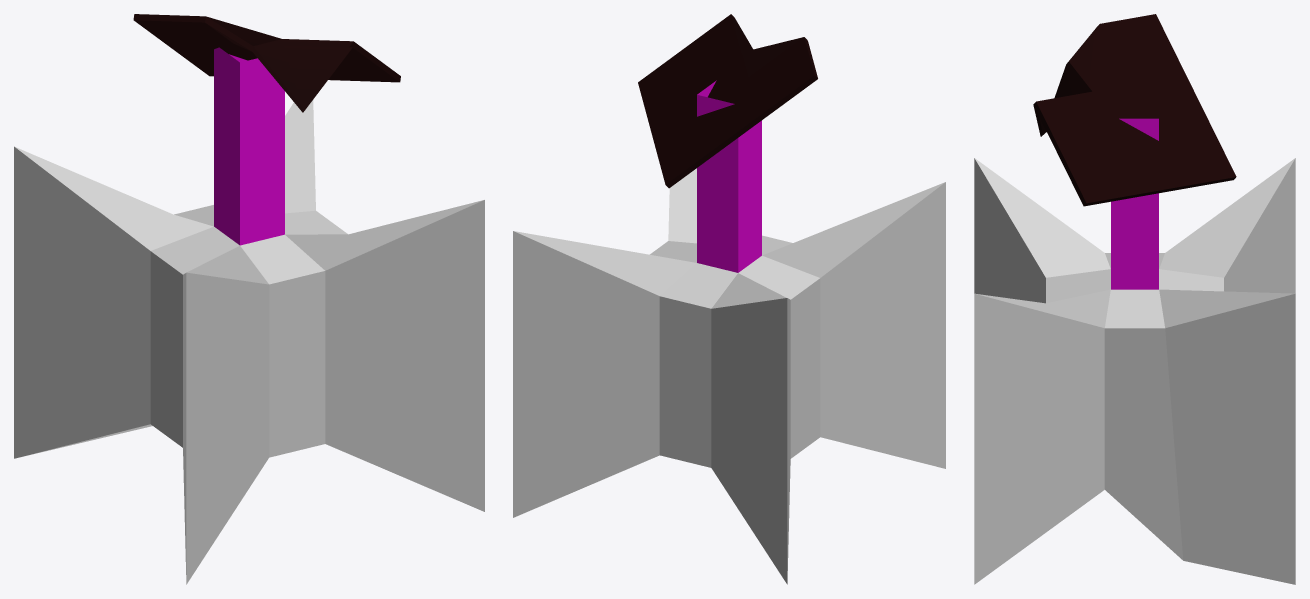
Rendered from dimensional_fruit_red_test_1.glb.
3 renders of one model, left to right at view 1: azimuth 30°, elevation 25°; view 2: azimuth 150°, elevation 25°; view 3: azimuth 270°, elevation 25°, orthographic. The views are drawn at different scales.
Visible parts, largest first — view 1: Cube.003, Cube.002; view 2: Cube.003, Cube.002; view 3: Cube.003, Cube.002.
Part boxes in pixels (bbox=[...]): Cube.003: bbox=[14, 47, 484, 584]; Cube.002: bbox=[133, 14, 400, 112]; Cube.003: bbox=[513, 80, 945, 584]; Cube.002: bbox=[638, 14, 817, 188]; Cube.003: bbox=[974, 118, 1295, 584]; Cube.002: bbox=[1033, 14, 1236, 206].
Size of the model in its own units: 1.33 by 2.12 by 1.33.
